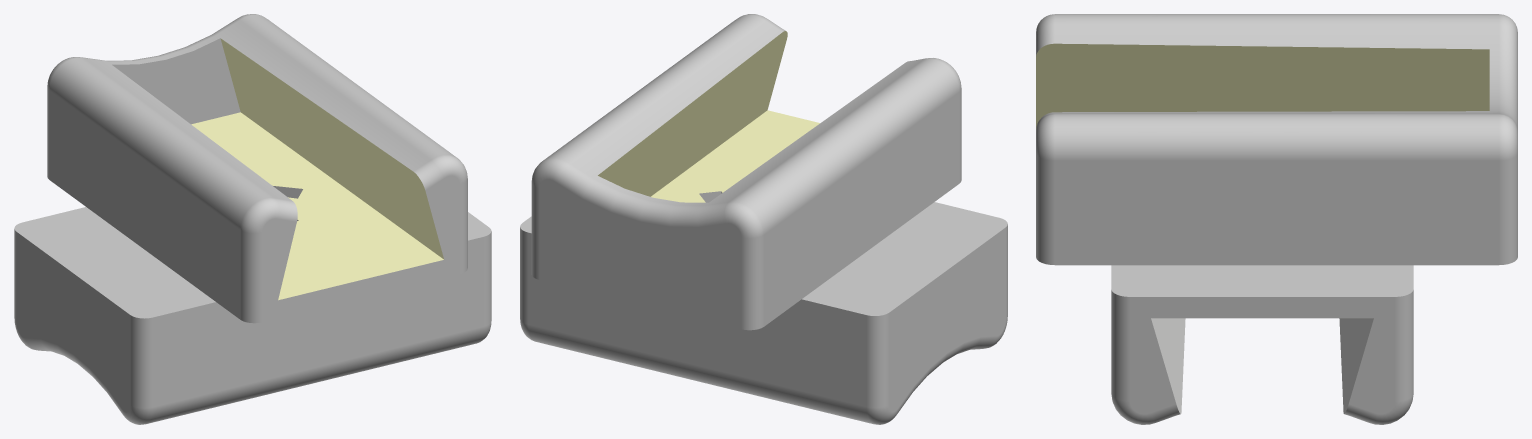
File: join_90_l.glb
3 views of the same model, side by side, from view 1: azimuth 30°, elevation 25°; view 2: azimuth 150°, elevation 25°; view 3: azimuth 270°, elevation 25° (orthographic). The views are drawn at different scales.
Visible parts, largest first — view 1: Body3; view 2: Body3; view 3: Body3.
Part boxes in pixels (left/top/right/bottom): Body3: left=14, top=14, right=491, bottom=424; Body3: left=520, top=14, right=1007, bottom=424; Body3: left=1036, top=14, right=1517, bottom=424.
Bounding box in the file's own units: 2.55 × 1.57 × 2.55.
